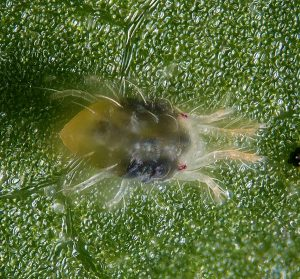Mites: (14, 66, 268, 222)
